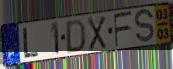1: (50, 20, 60, 57)
D: (65, 19, 87, 55)
F: (113, 10, 134, 50)
L: (22, 27, 40, 60)
S: (133, 7, 156, 46)
X: (87, 15, 107, 53)
